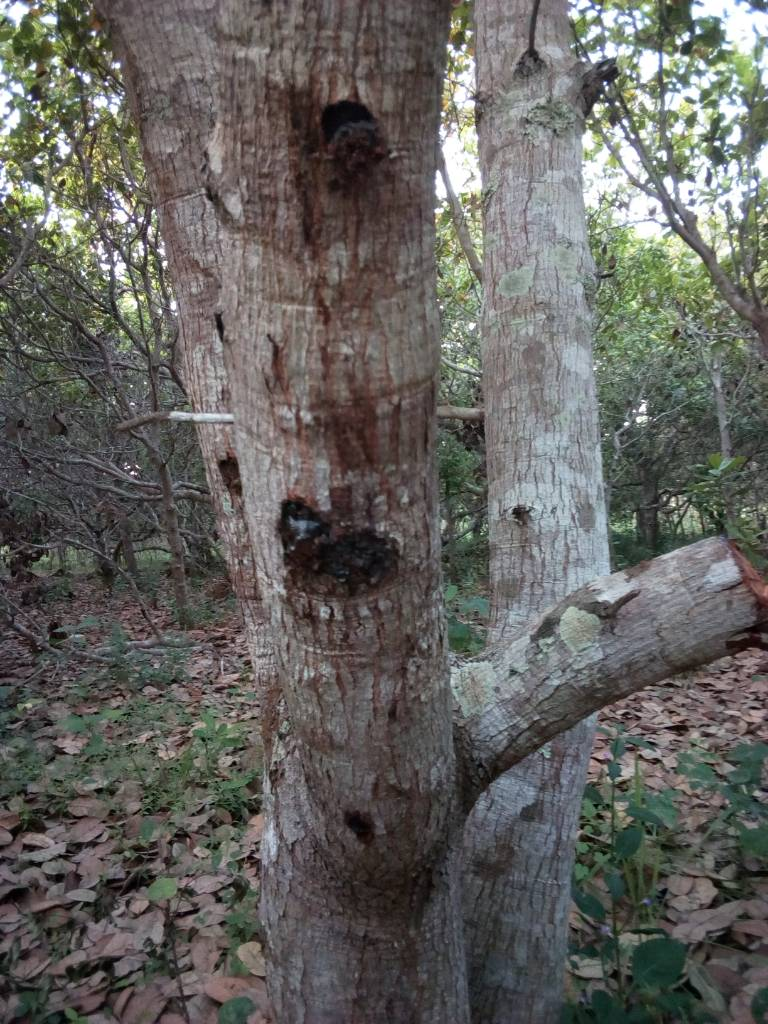Apate terebrans: (256, 72, 440, 180)
